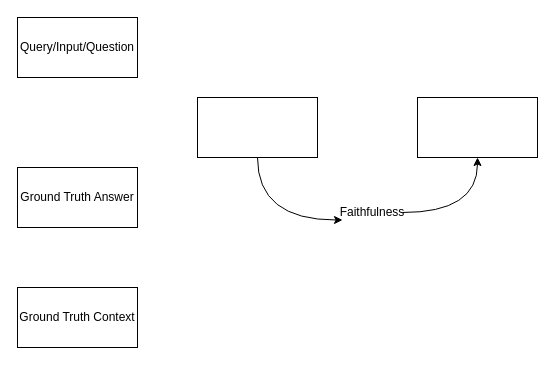
Some shapes in this 555 by 365 pixel diagram are drawn without their labels. Each missing label, with the box of its shape:
Response: (196, 96, 318, 158)
Retrieved Context: (416, 96, 538, 158)
